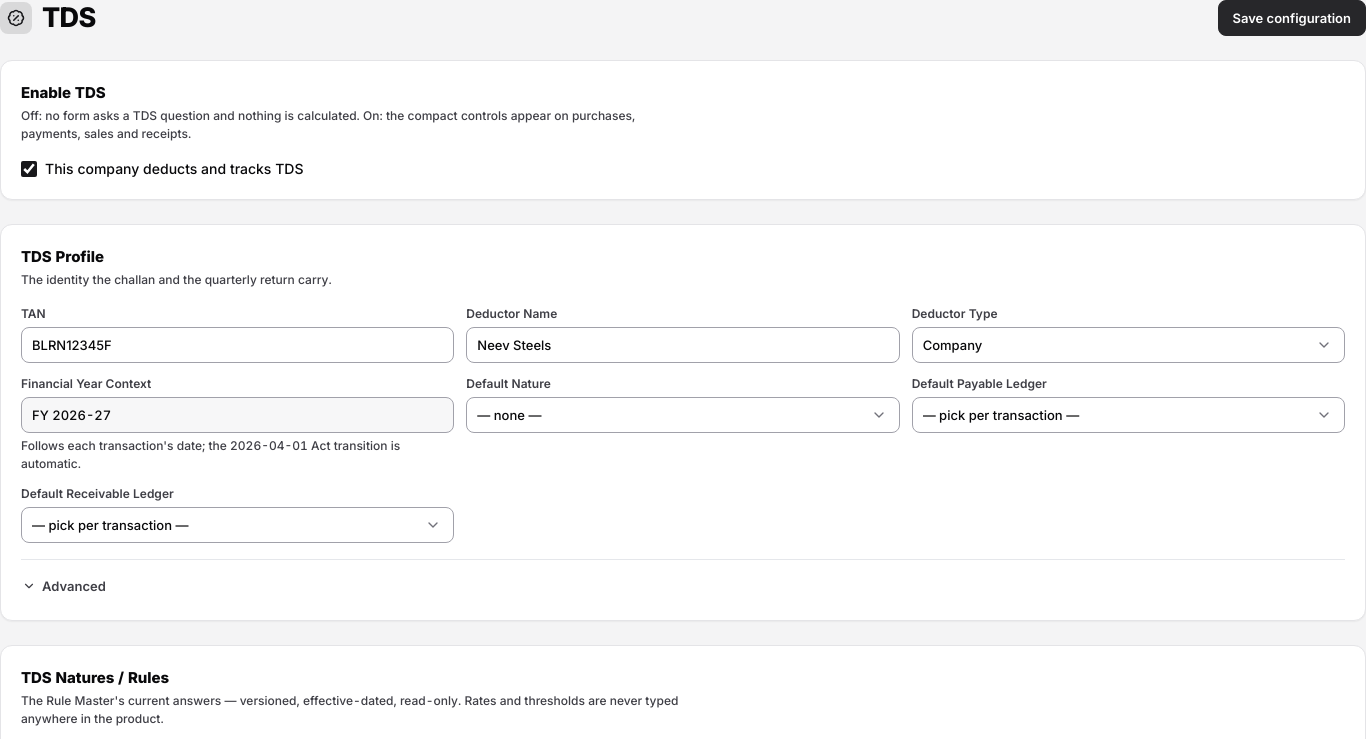
Scenario: the configuration page › the profile asks the specified fields, and hides the compliance rest under Advanced
Check: the field labelled "TAN" holds "BLRN12345F", box [21,327,454,363]
Check: the field labelled "Deductor Name" is shown, box [466,327,900,363]
Click the button "Advanced" at (64,586), box [21,572,107,600]
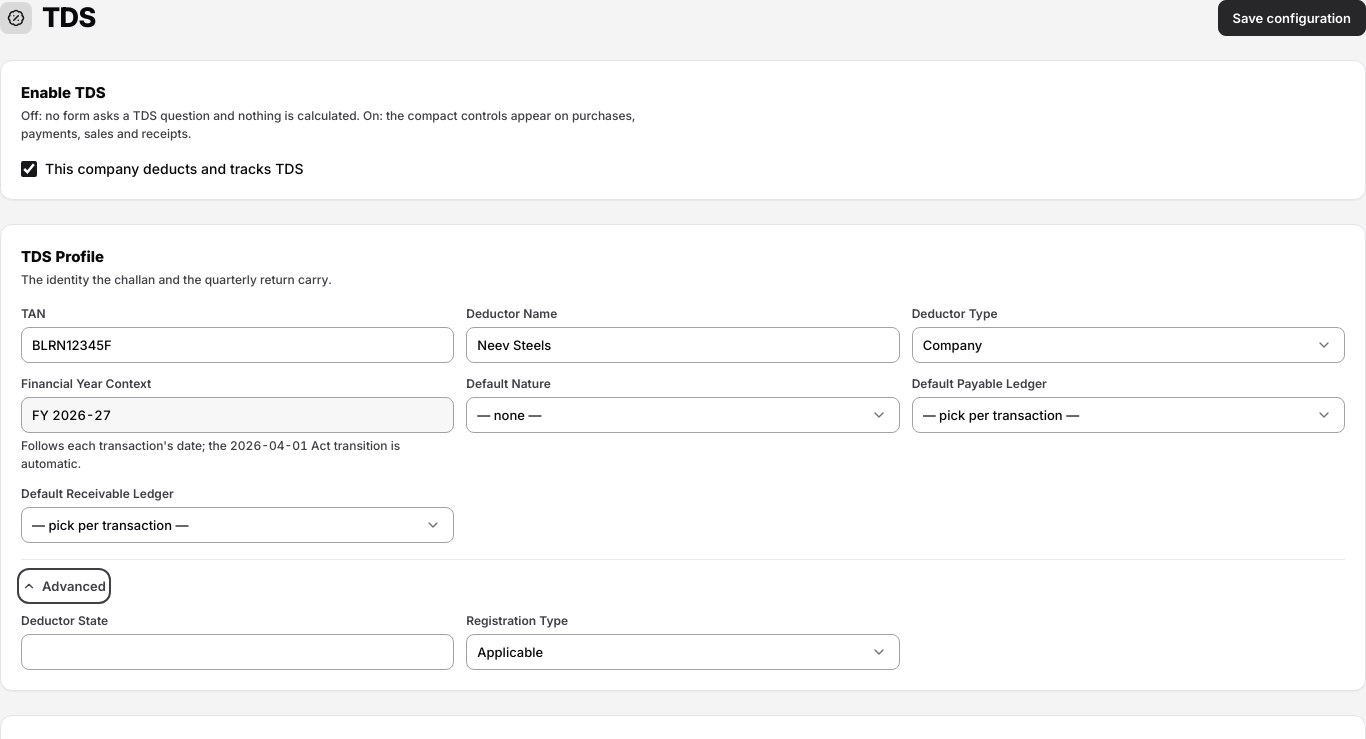
Check: the field labelled "Deductor State" is shown, box [21,634,454,670]
